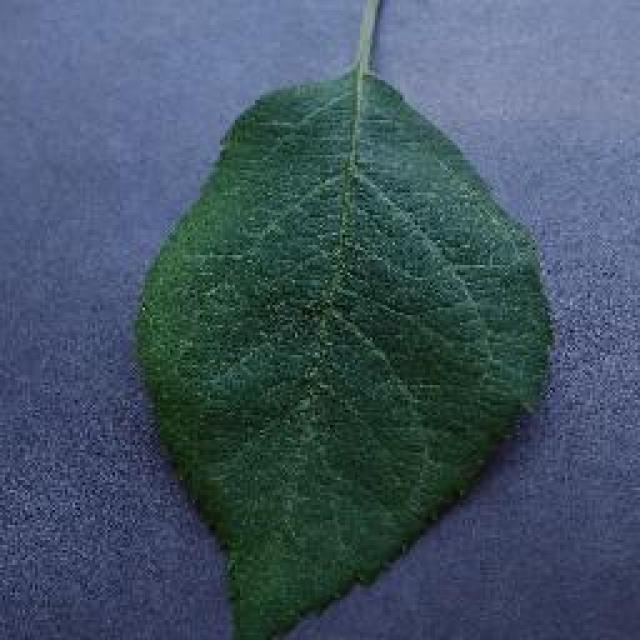apple healthy: (130, 62, 558, 638)
